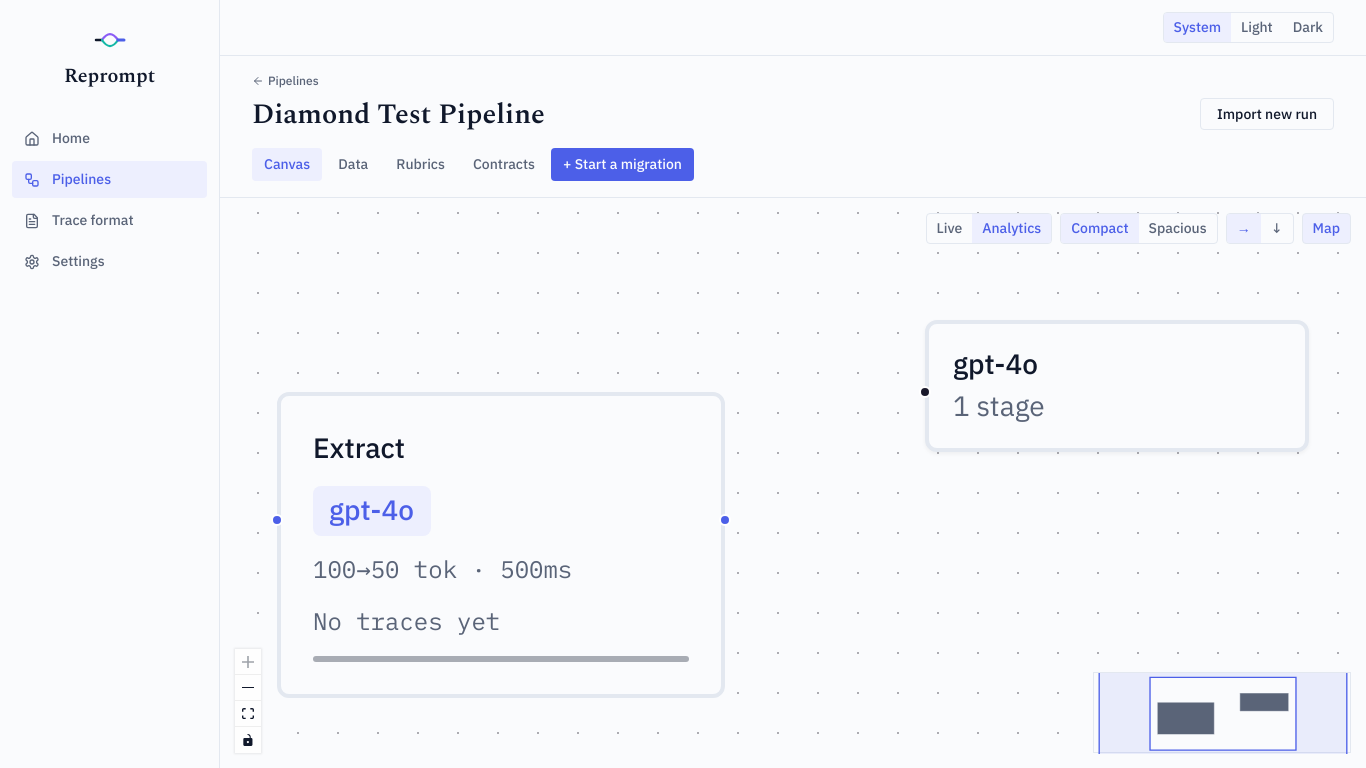
Test: PipelineWorkspace › saves a renamed pipeline via inline edit
This screenshot has width=1366, height=768.
Click the button "Diamond Test Pipeline".
click(398, 115)  # box [252, 98, 545, 132]
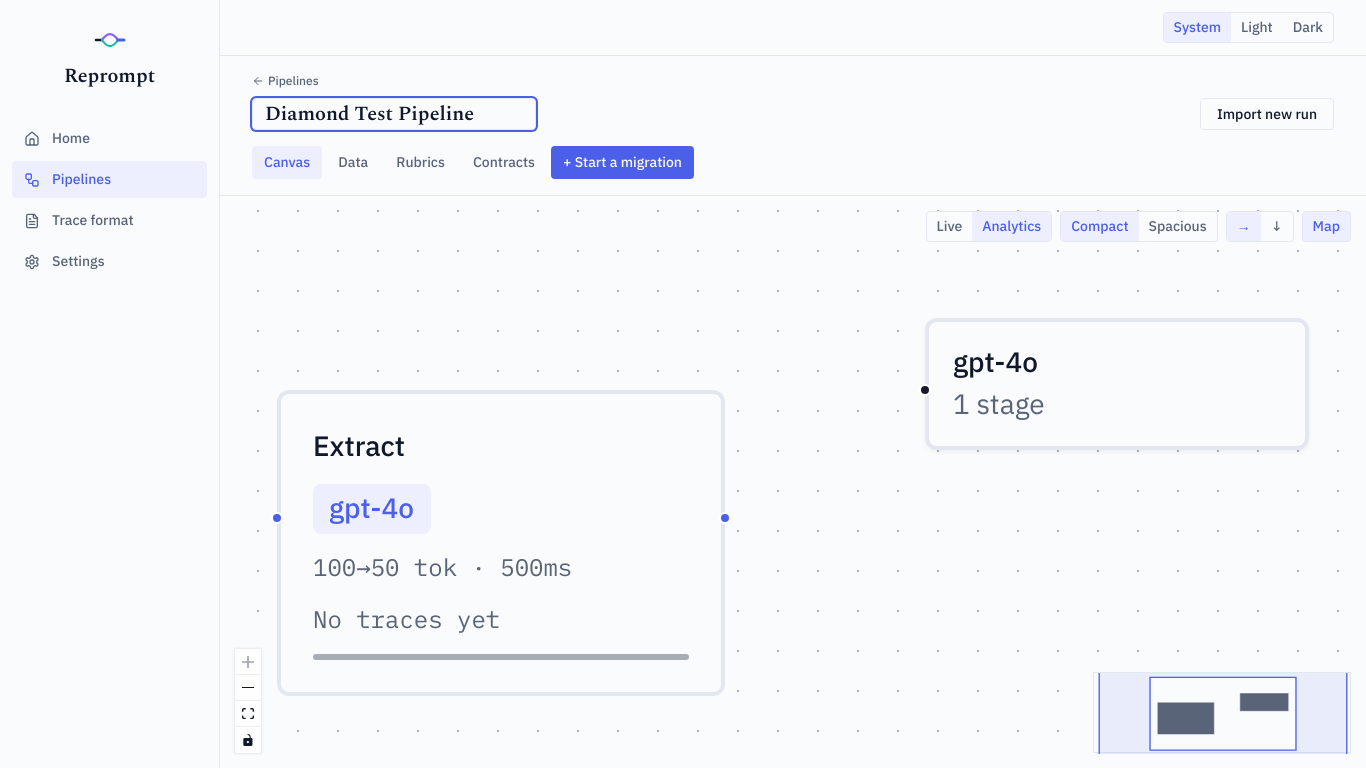
Replace the text in the field named "Pipeline name" with "Renamed Pipeline" at (394, 114), box [252, 98, 536, 130]
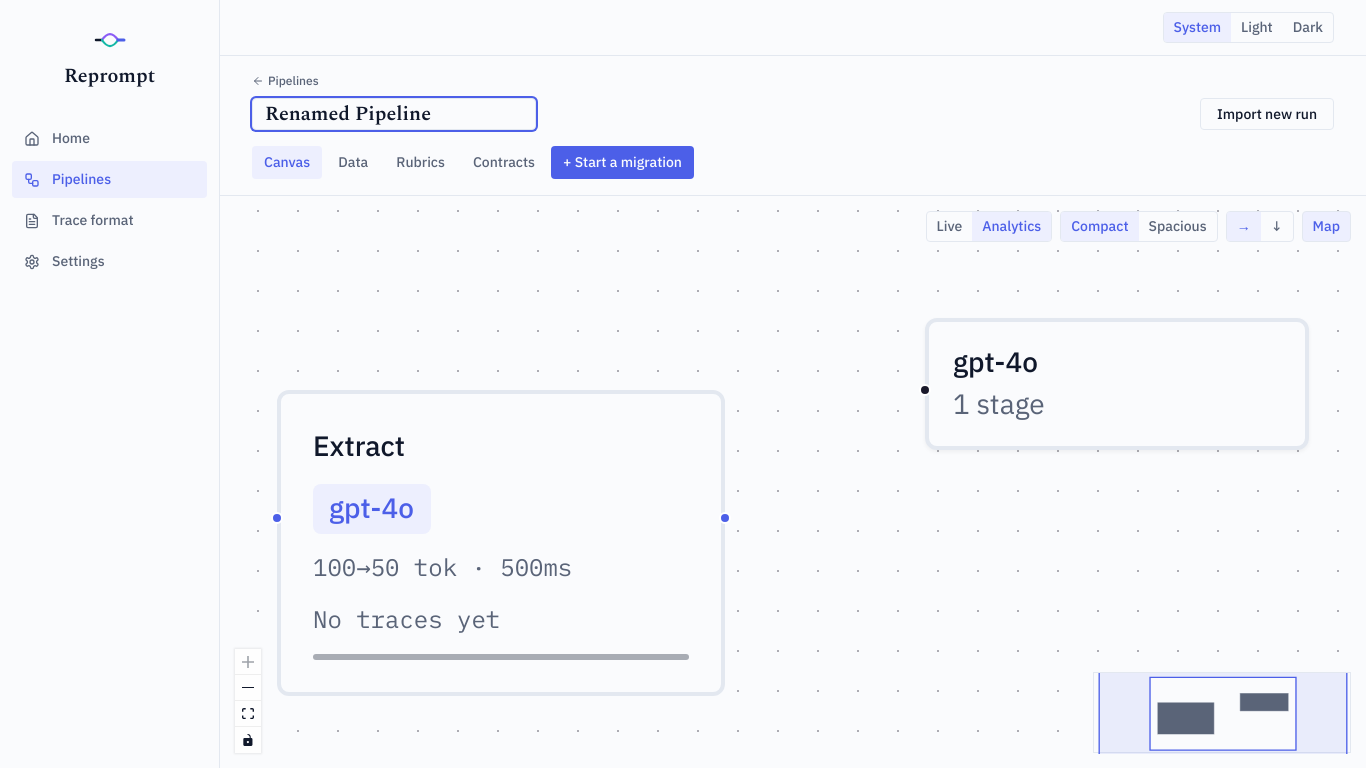
Press Enter in the field named "Pipeline name", box [252, 98, 536, 130]
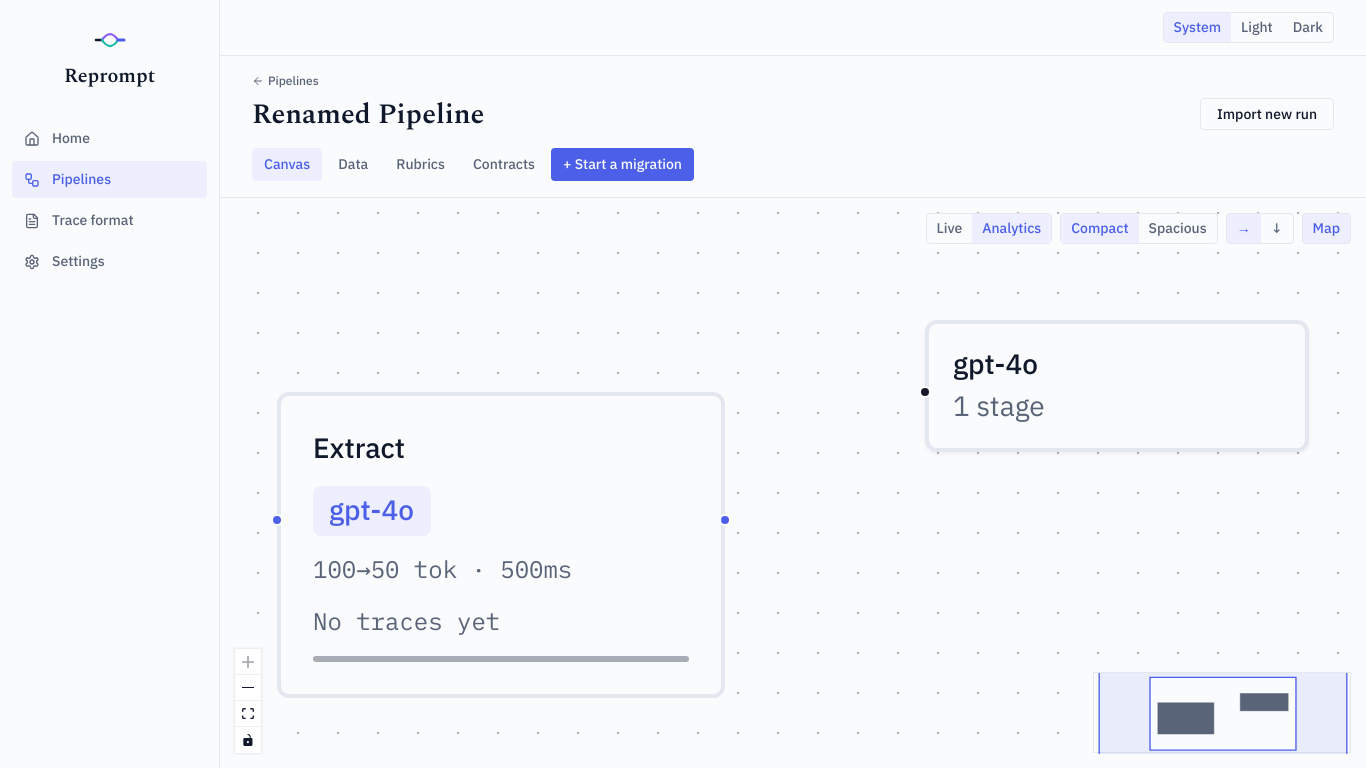
Expected: the button "Renamed Pipeline" is shown, [252, 98, 484, 132]
